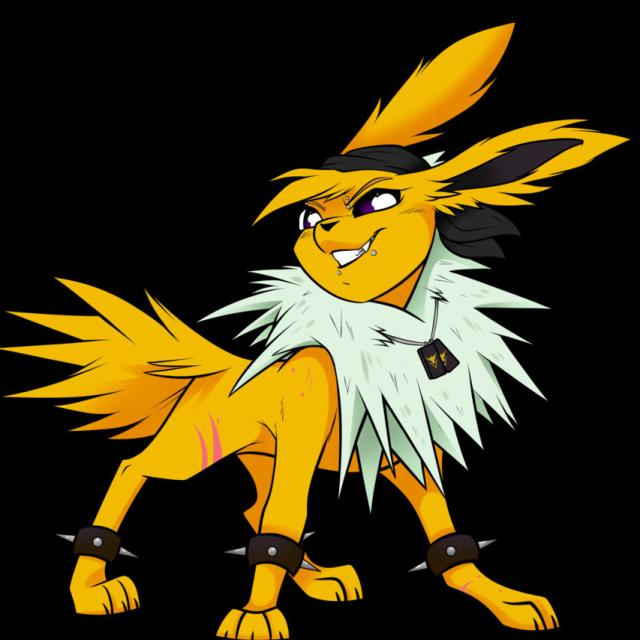Jolteon: (93, 130, 524, 604)
